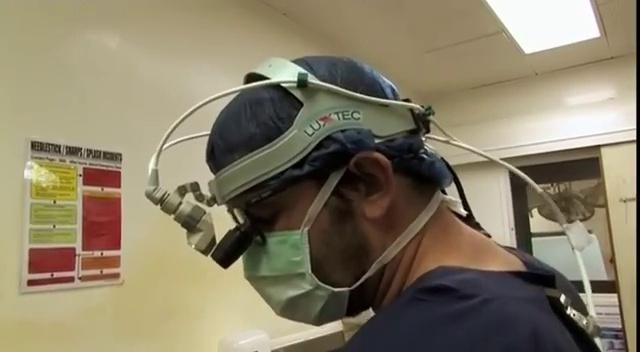doctor: (199, 53, 609, 351)
